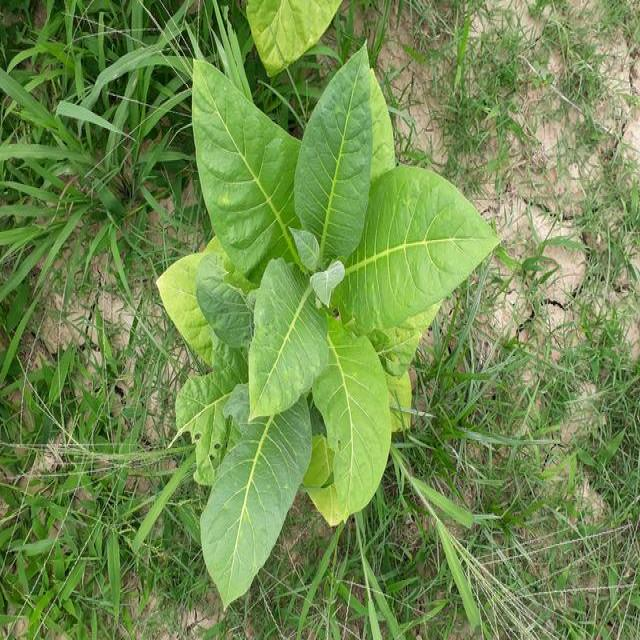crop: (185, 55, 498, 580), (242, 0, 343, 63)
